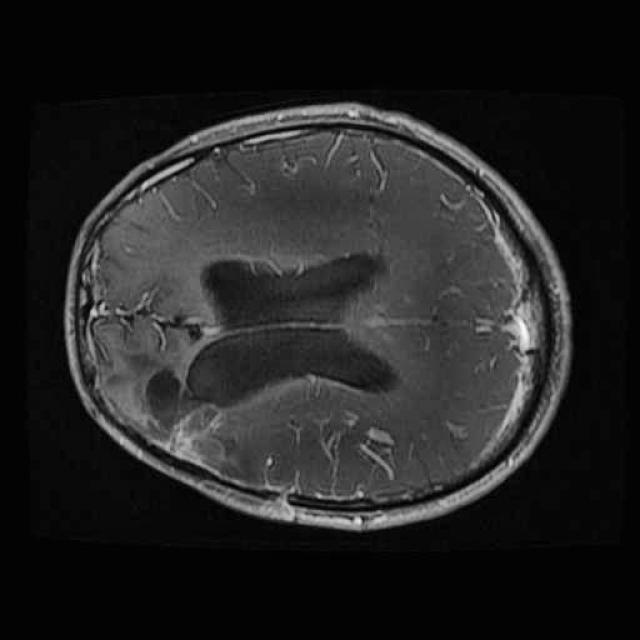Non-Tumor: (130, 358, 268, 508)
